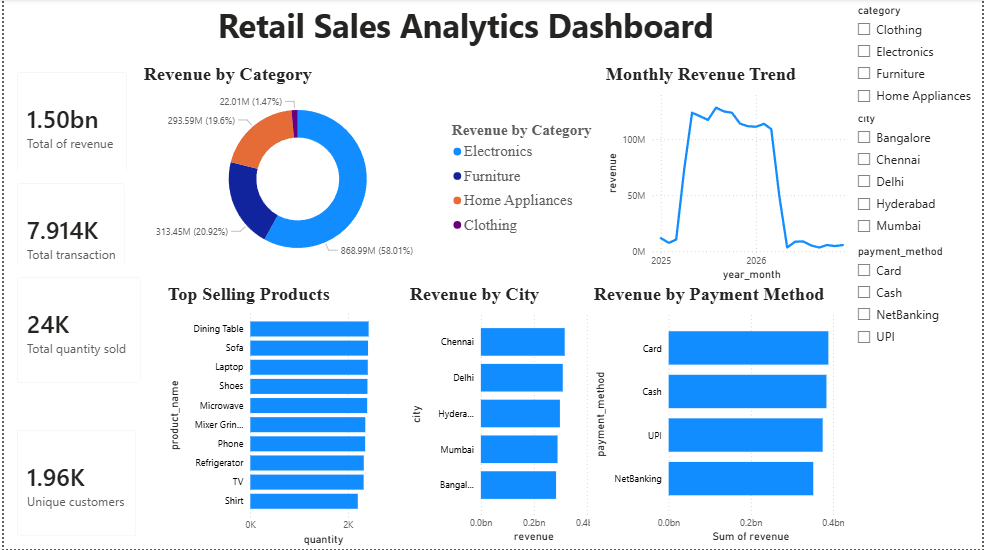

What the dashboard file says about the page in this screenshot:
{"tool":"powerbi","page":{"name":"Page 1","canvas":[1280,720],"ordinal":0},"visuals":[{"type":"cardVisual","fields":{"Data":["Sum(cleaned_retail_data.revenue)"]},"box":[0,78.3,178.3,173.3],"z":0},{"type":"cardVisual","fields":{"Data":["CountNonNull(cleaned_retail_data.transaction_id)"]},"box":[0,223.3,175,173.3],"z":1000},{"type":"cardVisual","fields":{"Data":["Sum(cleaned_retail_data.quantity)"]},"box":[0,346.7,196.7,173.3],"z":2000},{"type":"cardVisual","fields":{"Data":["Count(cleaned_retail_data.customer_id)"]},"box":[0,546.7,190,173.3],"z":3000},{"type":"donutChart","title":"Revenue by Category","fields":{"Category":["cleaned_retail_data.category"],"Y":["Sum(cleaned_retail_data.revenue)"]},"box":[178.3,85,605,275],"z":4000},{"type":"clusteredBarChart","title":"Revenue by City","fields":{"Category":["cleaned_retail_data.city"],"Y":["Sum(cleaned_retail_data.revenue)"]},"box":[526.7,373.3,256.7,343.3],"z":5000},{"type":"lineChart","title":"Monthly Revenue Trend","fields":{"Y":["Sum(cleaned_retail_data.revenue)"],"Category":["cleaned_retail_data.year_month"]},"box":[783.3,85,333.3,288.3],"z":6000},{"type":"clusteredBarChart","title":"Top Selling Products","fields":{"Category":["cleaned_retail_data.product_name"],"Y":["Sum(cleaned_retail_data.quantity)"]},"box":[210,373.3,316.7,346.7],"z":7000},{"type":"textbox","box":[275,0,936.3,88.4],"z":8000},{"type":"slicer","fields":{"Values":["cleaned_retail_data.city"]},"box":[1105,143.3,145,173.3],"z":9000},{"type":"slicer","fields":{"Values":["cleaned_retail_data.category"]},"box":[1105,1.7,175,151.7],"z":10000},{"type":"slicer","fields":{"Values":["cleaned_retail_data.payment_method"]},"box":[1105,316.7,175,146.7],"z":11000},{"type":"clusteredBarChart","title":"Revenue by Payment Method","fields":{"Y":["Sum(cleaned_retail_data.revenue)"],"Category":["cleaned_retail_data.payment_method"]},"box":[766.7,373.3,338.3,343.3],"z":12000}]}

Visuals, with their boxes in screenshot pixels (x1, y1, x2, y2), scaled from the page's 1280x720 canvas onto the 984x550 screenshot:
cardVisual - Sum(cleaned_retail_data.revenue): x1=0, y1=60, x2=137, y2=192
cardVisual - CountNonNull(cleaned_retail_data.transaction_id): x1=0, y1=171, x2=135, y2=303
cardVisual - Sum(cleaned_retail_data.quantity): x1=0, y1=265, x2=151, y2=397
cardVisual - Count(cleaned_retail_data.customer_id): x1=0, y1=418, x2=146, y2=549
"Revenue by Category" donutChart: x1=137, y1=65, x2=602, y2=275
"Revenue by City" clusteredBarChart: x1=405, y1=285, x2=602, y2=547
"Monthly Revenue Trend" lineChart: x1=602, y1=65, x2=858, y2=285
"Top Selling Products" clusteredBarChart: x1=161, y1=285, x2=405, y2=549
textbox: x1=211, y1=0, x2=931, y2=68
slicer - cleaned_retail_data.city: x1=849, y1=109, x2=961, y2=242
slicer - cleaned_retail_data.category: x1=849, y1=1, x2=983, y2=117
slicer - cleaned_retail_data.payment_method: x1=849, y1=242, x2=983, y2=354
"Revenue by Payment Method" clusteredBarChart: x1=589, y1=285, x2=849, y2=547
